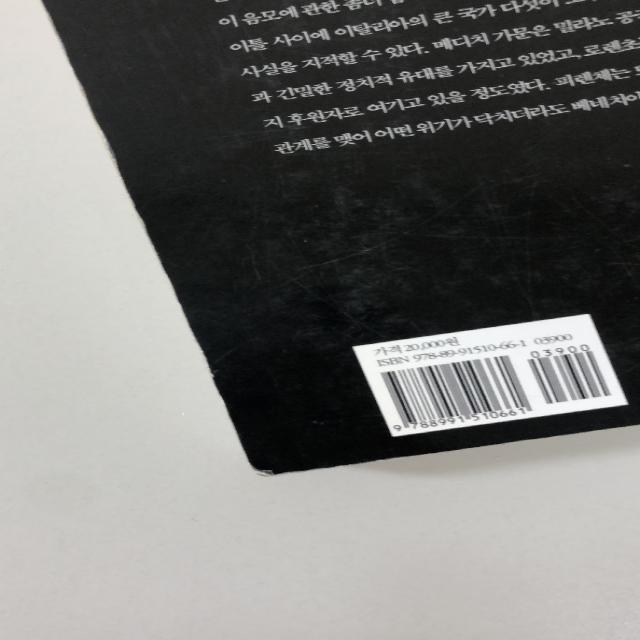Wornout: (162, 265, 231, 411), (96, 119, 157, 247), (40, 0, 100, 113), (237, 445, 308, 483)
